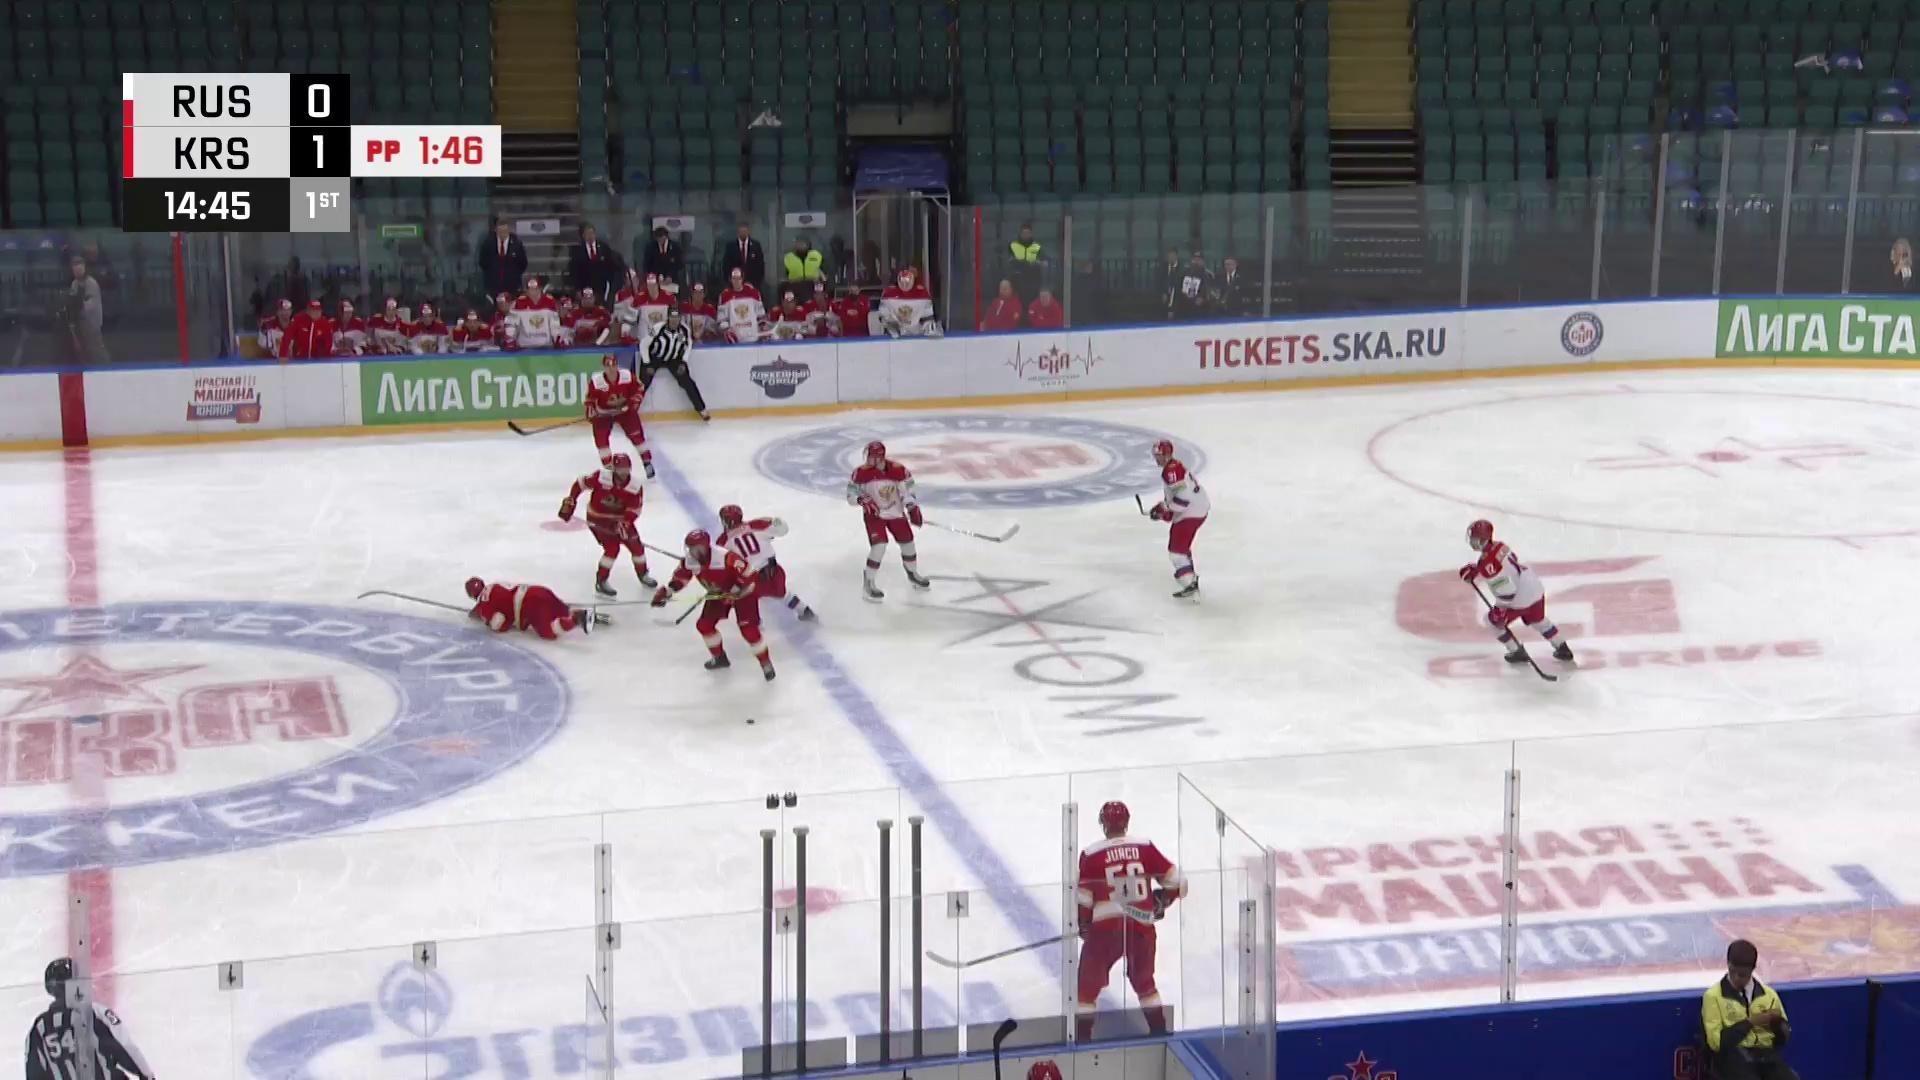ball: (742, 717, 758, 727)
